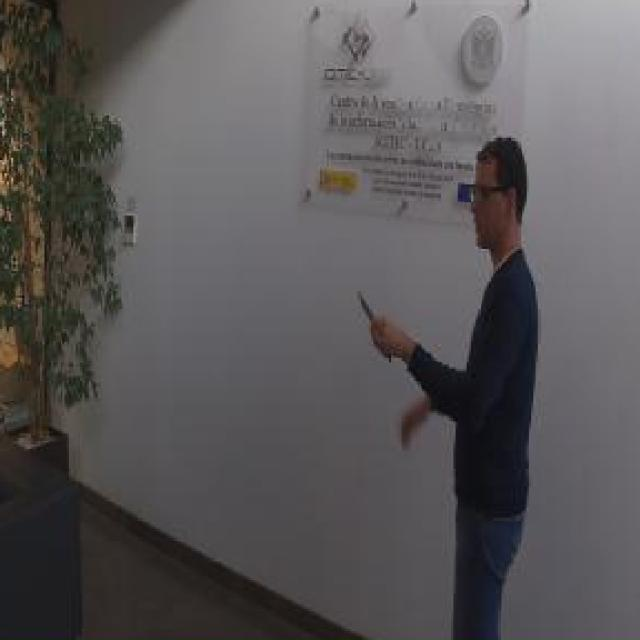knife: (356, 287, 394, 369)
